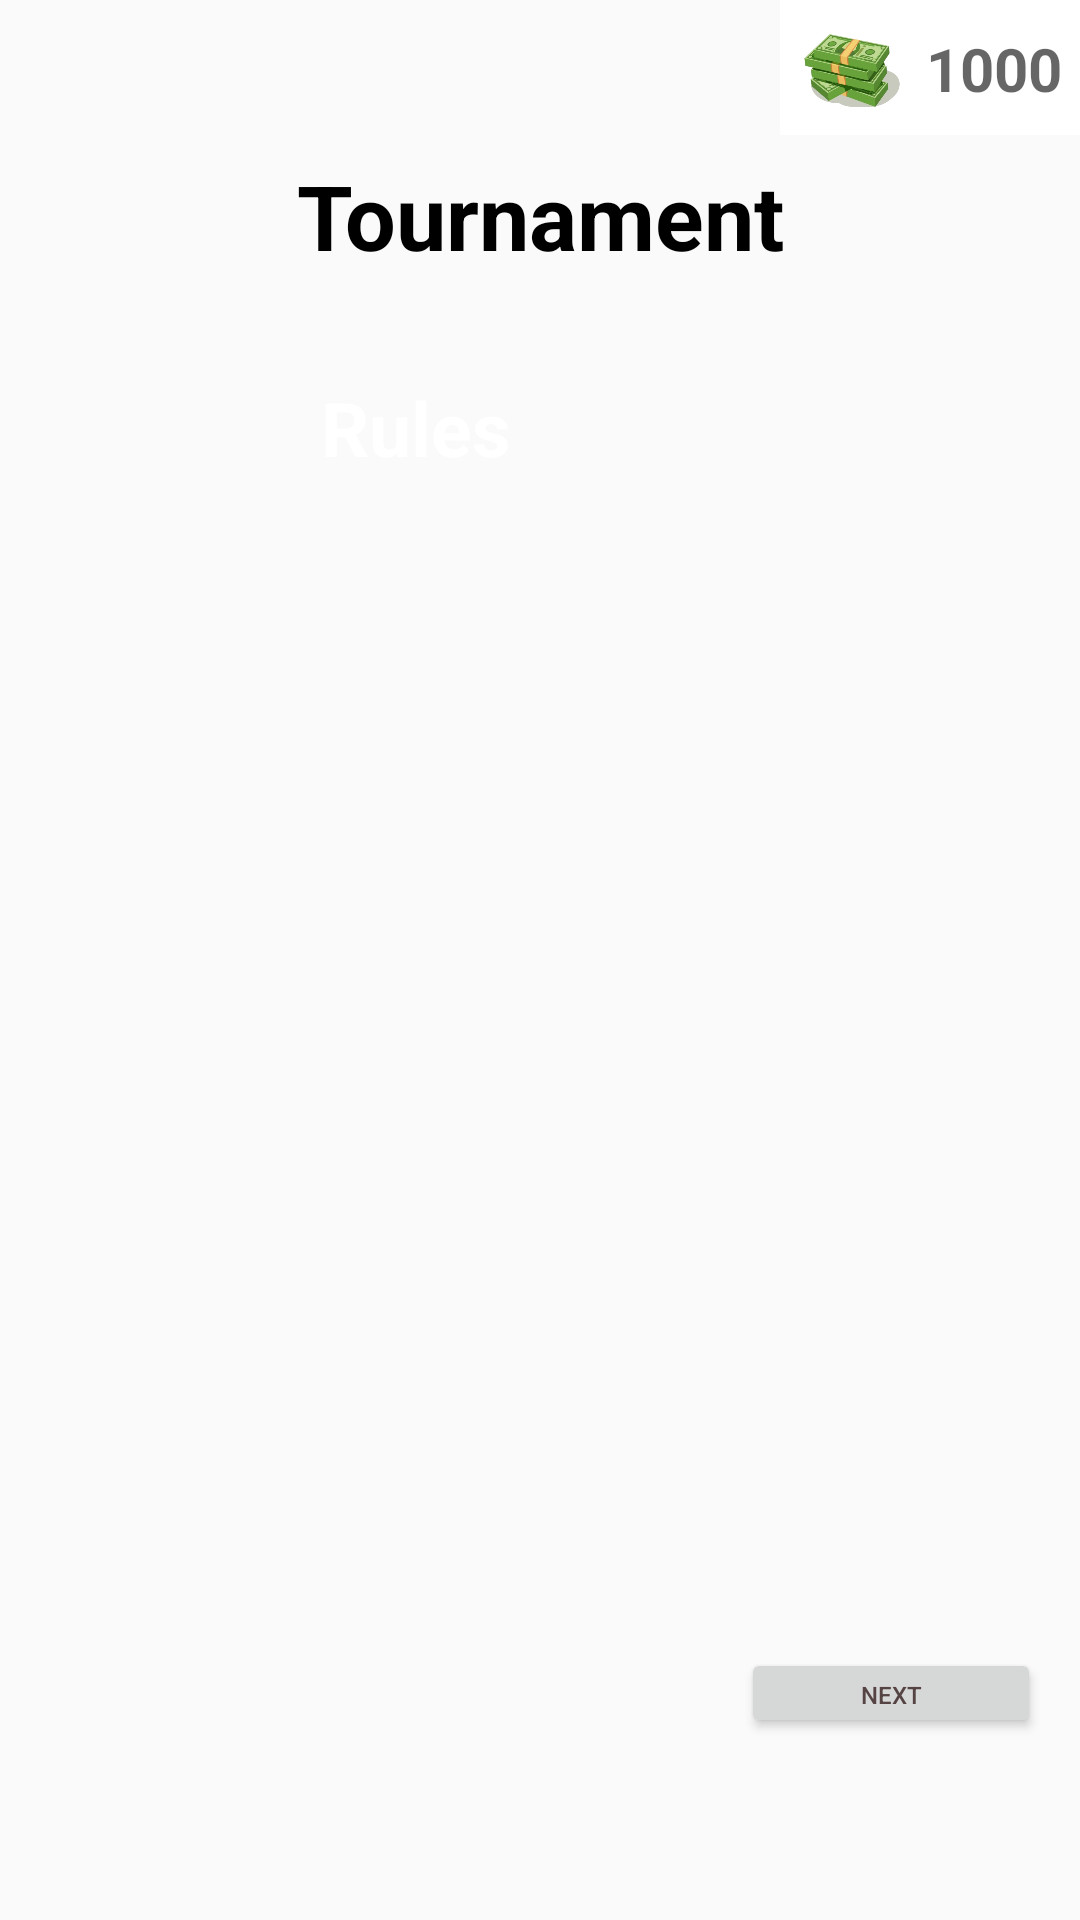

Named icons in this screenshot (1080 x 1920) and their bounding boxes, (x1, y1, x2, y2):
cash: (804, 34, 900, 107)
